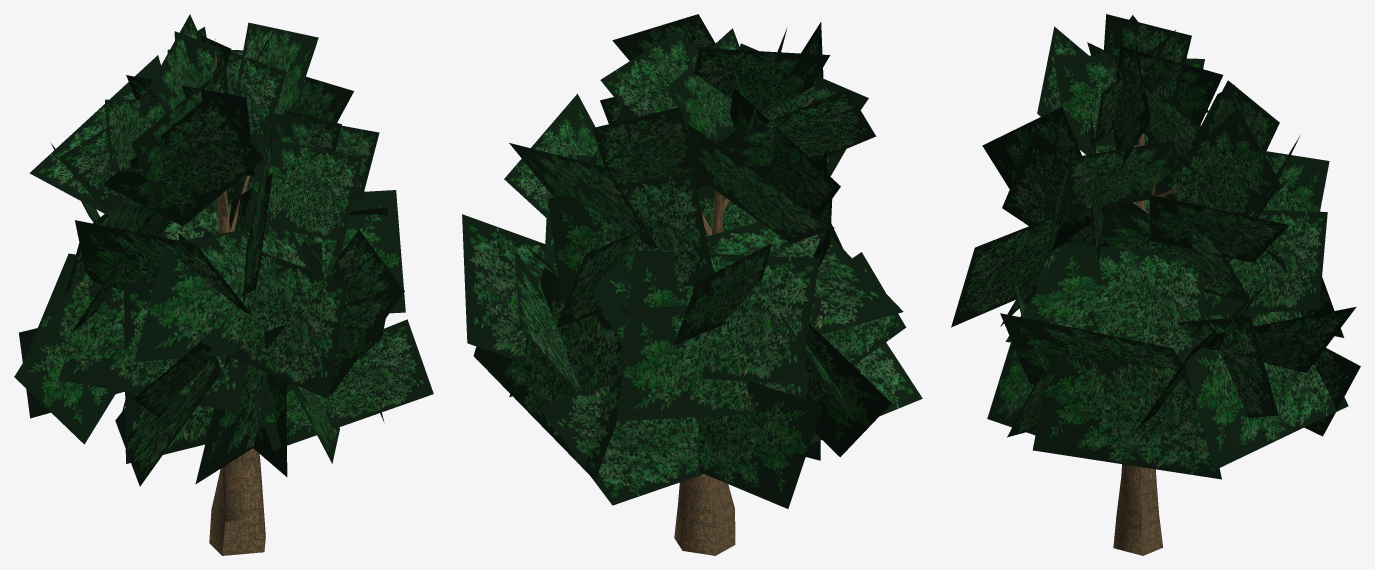
File: gen_tree_f.fbx
The picture shows the model from 3 angles, left to right: view 1: azimuth 30°, elevation 25°; view 2: azimuth 150°, elevation 25°; view 3: azimuth 270°, elevation 25°; orthographic projection. The views are drawn at different scales.
Visible parts, largest first — view 1: polySurface13, polySurface31, leaf_plane14, polySurface6, polySurface18, leaf_plane018, polySurface4, polySurface27, trunk, polySurface19, leaf_plane011, polySurface5 (+22 smaller); view 2: polySurface10, polySurface24, polySurface32, polySurface25, polySurface8, polySurface20, polySurface12, leaf_plane31, leaf_plane02, leaf_plane34, leaf_plane08, leaf_plane10 (+17 smaller); view 3: polySurface3, polySurface29, polySurface20, polySurface33, leaf_plane27, polySurface31, polySurface5, leaf_plane019, leaf_plane33, leaf_plane12, polySurface16, leaf_plane31 (+18 smaller).
Boxes of the visible parts, box(x1,y1,x2,y2) form: polySurface13: box(134, 226, 349, 361); polySurface31: box(203, 231, 348, 399); leaf_plane14: box(102, 93, 263, 226); polySurface6: box(24, 253, 248, 411); polySurface18: box(256, 319, 433, 450); leaf_plane018: box(247, 137, 362, 242); polySurface4: box(14, 266, 117, 444); polySurface27: box(75, 220, 252, 314); trunk: box(209, 50, 265, 555); polySurface19: box(160, 190, 405, 313); leaf_plane011: box(174, 31, 287, 148); polySurface5: box(328, 229, 404, 395); polySurface10: box(618, 250, 819, 383); polySurface24: box(616, 296, 821, 421); polySurface32: box(548, 171, 713, 299); polySurface25: box(698, 381, 822, 508); polySurface8: box(539, 378, 703, 505); polySurface20: box(473, 267, 622, 480); polySurface12: box(592, 221, 903, 345); leaf_plane31: box(462, 214, 556, 362); leaf_plane02: box(716, 89, 876, 177); leaf_plane34: box(592, 107, 706, 189); leaf_plane08: box(686, 123, 834, 243); leaf_plane10: box(694, 48, 830, 114); polySurface3: box(1032, 354, 1221, 479); polySurface29: box(1005, 242, 1205, 360); polySurface20: box(1182, 310, 1348, 470); polySurface33: box(1204, 210, 1327, 315); leaf_plane27: box(1165, 108, 1282, 215); polySurface31: box(951, 214, 1060, 327); polySurface5: box(1000, 313, 1181, 384); leaf_plane019: box(1068, 140, 1177, 213); leaf_plane33: box(1150, 195, 1289, 262); leaf_plane12: box(982, 107, 1105, 251); polySurface16: box(1102, 205, 1252, 303); leaf_plane31: box(1177, 316, 1278, 417).
Bounding box in the file's own units: 4302 × 5427 × 4015.
Materials: 2 (2 with a texture image).
